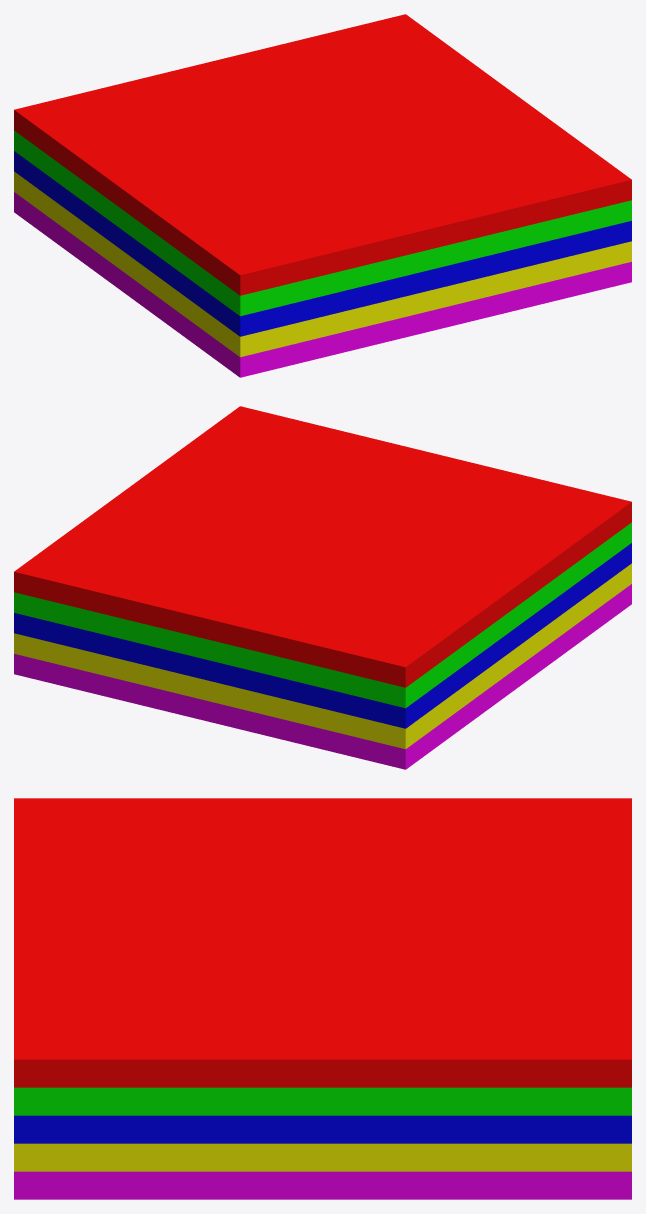
Rendered from board.glb.
3 renders of one model, top to bottom at view 1: azimuth 30°, elevation 25°; view 2: azimuth 150°, elevation 25°; view 3: azimuth 270°, elevation 25°, orthographic. The views are drawn at different scales.
Parts seen in each view (by area): view 1: Substrate_Layer_0_Z0, Substrate_Layer_2_Z0, Substrate_Layer_3_Z0, Substrate_Layer_4_Z0, Substrate_Layer_1_Z0; view 2: Substrate_Layer_0_Z0, Substrate_Layer_2_Z0, Substrate_Layer_3_Z0, Substrate_Layer_4_Z0, Substrate_Layer_1_Z0; view 3: Substrate_Layer_0_Z0, Substrate_Layer_1_Z0, Substrate_Layer_2_Z0, Substrate_Layer_3_Z0, Substrate_Layer_4_Z0.
Part boxes in pixels (x1,y1,x2,y2): Substrate_Layer_0_Z0: (14, 14, 631, 295); Substrate_Layer_2_Z0: (14, 151, 631, 336); Substrate_Layer_3_Z0: (14, 171, 631, 357); Substrate_Layer_4_Z0: (14, 192, 631, 377); Substrate_Layer_1_Z0: (14, 130, 631, 316); Substrate_Layer_0_Z0: (14, 406, 631, 687); Substrate_Layer_2_Z0: (14, 543, 631, 728); Substrate_Layer_3_Z0: (14, 563, 631, 749); Substrate_Layer_4_Z0: (14, 584, 631, 769); Substrate_Layer_1_Z0: (14, 522, 631, 708); Substrate_Layer_0_Z0: (14, 798, 631, 1087); Substrate_Layer_1_Z0: (14, 1087, 631, 1115); Substrate_Layer_2_Z0: (14, 1115, 631, 1143); Substrate_Layer_3_Z0: (14, 1143, 631, 1171); Substrate_Layer_4_Z0: (14, 1171, 631, 1199).
Bounding box in the file's own units: 0.02 × 0.005 × 0.02.
